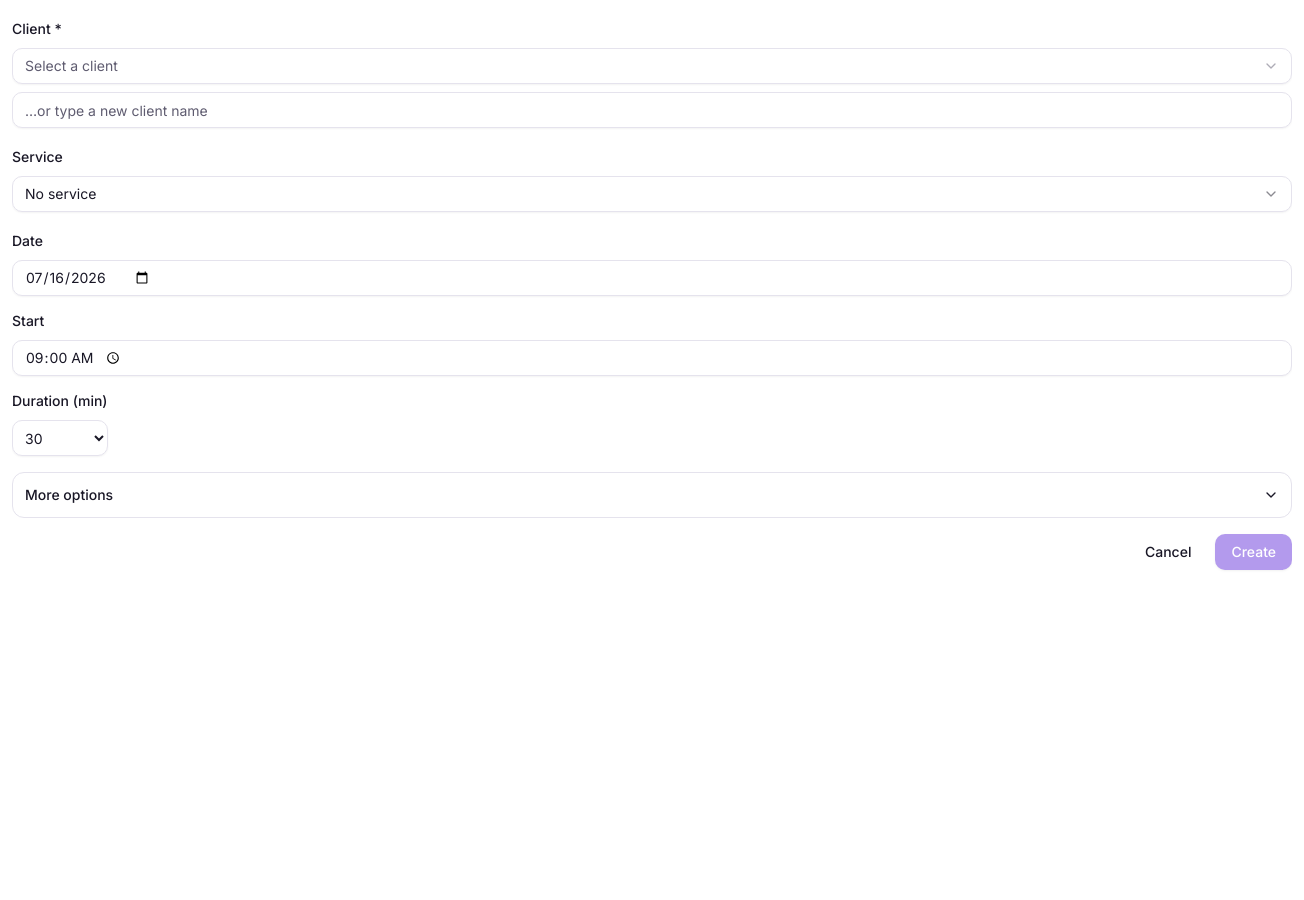
Scenario: AppointmentForm › keeps optional optimizer controls collapsed behind More options
Expected: the text "client availability" is not shown
What coordinates should you click on to do the following:
click the button "More options"
I would click on:
 (69, 494)
Its box is [13,473,1291,517].
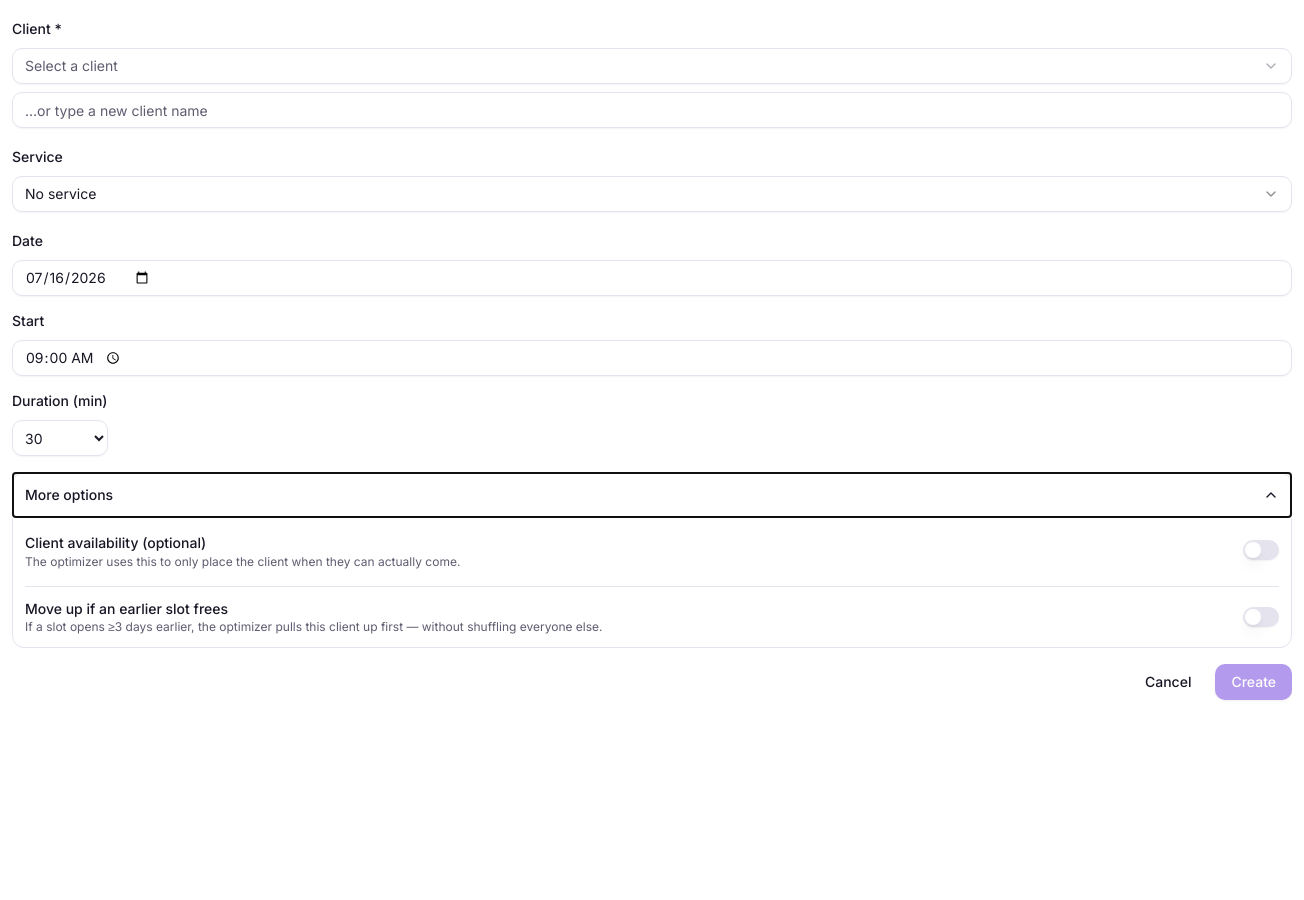
Expected: the text "Client availability (optional)" is shown, [25,534,206,551]
Expected: the button "More options" is expanded, [13,473,1291,517]
